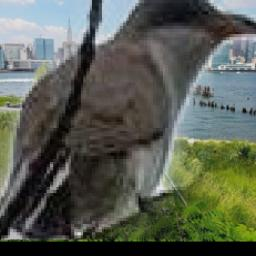Cuckoo: (0, 0, 256, 239)
